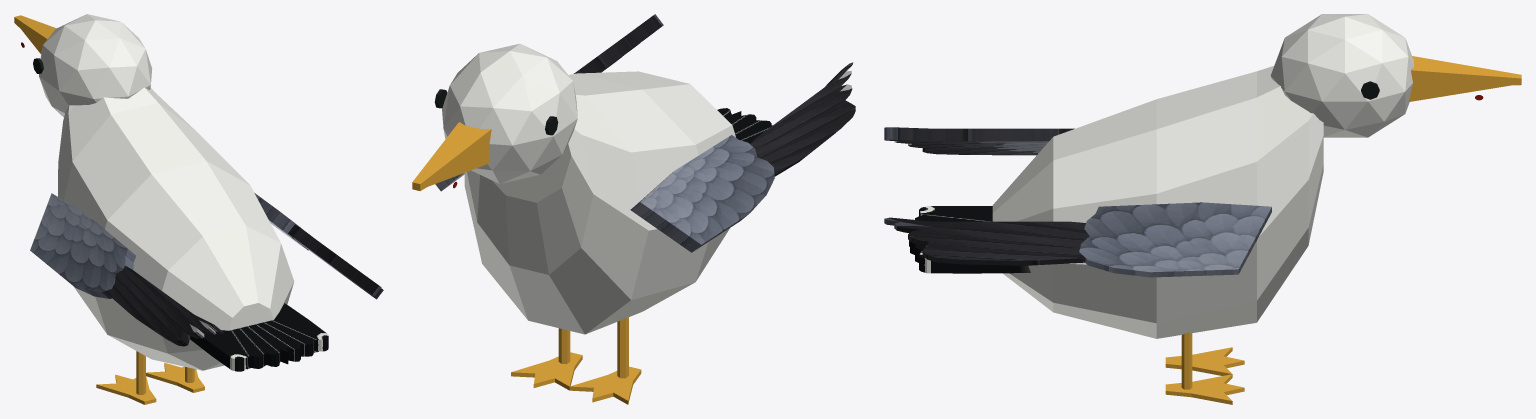
File: gull_adult.glb
3 renders of one model, left to right at view 1: azimuth 30°, elevation 25°; view 2: azimuth 150°, elevation 25°; view 3: azimuth 270°, elevation 25°, orthographic. The views are drawn at different scales.
Parts seen in each view (by area): view 1: body, head, inner_mesh, tail_dark, outer_mesh, outer_mesh.001, foot, foot.001, upper_bill_mesh, inner_mesh.001, shin; view 2: body, head, inner_mesh, outer_mesh, upper_bill_mesh, outer_mesh.001, foot, foot.001, tail_dark, shin, lower_bill_mesh, shin.001; view 3: body, head, inner_mesh.001, outer_mesh.001, outer_mesh, tail_dark, upper_bill_mesh, foot.001, foot, lower_bill_mesh, shin.001.
Part boxes in pixels (x1,y1,x2,y2): body: [58, 87, 294, 370]; head: [39, 14, 152, 117]; inner_mesh: [30, 193, 135, 298]; tail_dark: [190, 303, 328, 371]; outer_mesh: [105, 266, 223, 346]; outer_mesh.001: [288, 224, 383, 299]; foot: [96, 374, 156, 404]; foot.001: [146, 362, 204, 392]; upper_bill_mesh: [14, 15, 56, 48]; inner_mesh.001: [254, 193, 312, 250]; shin: [136, 351, 145, 394]; body: [464, 71, 735, 334]; head: [442, 43, 577, 183]; inner_mesh: [630, 135, 774, 252]; outer_mesh: [749, 62, 855, 176]; upper_bill_mesh: [412, 122, 491, 190]; outer_mesh.001: [574, 14, 663, 73]; foot: [569, 366, 641, 404]; foot.001: [511, 352, 582, 390]; tail_dark: [717, 108, 772, 143]; shin: [617, 317, 628, 378]; lower_bill_mesh: [429, 151, 489, 186]; shin.001: [558, 328, 570, 363]; body: [992, 66, 1323, 338]; head: [1270, 14, 1414, 137]; inner_mesh.001: [1079, 202, 1271, 277]; outer_mesh.001: [884, 217, 1089, 265]; outer_mesh: [884, 127, 1074, 155]; tail_dark: [909, 206, 1030, 273]; upper_bill_mesh: [1411, 56, 1521, 88]; foot.001: [1165, 374, 1244, 404]; foot: [1165, 347, 1244, 375]; lower_bill_mesh: [1408, 85, 1508, 101]; shin.001: [1181, 332, 1192, 389].
Size of the model in its own units: 0.609 by 0.8134 by 1.3.
2 materials, 2 textured.
